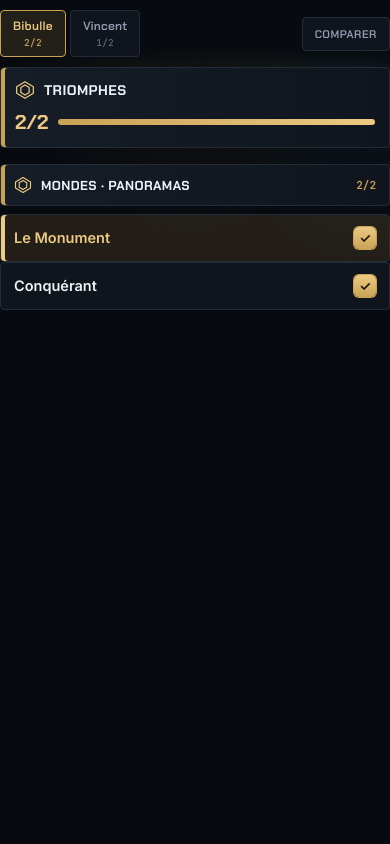
Test: MobileView › closes detail sheet on Escape key
The image size is (390, 844).
Click the text "Le Monument".
click(62, 237)  # box [14, 229, 110, 246]
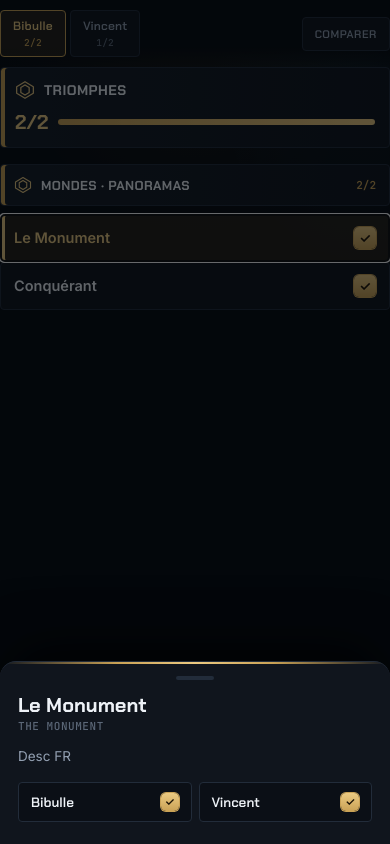
Expected: the text "Desc FR" is shown, [18, 748, 71, 764]
Press Escape
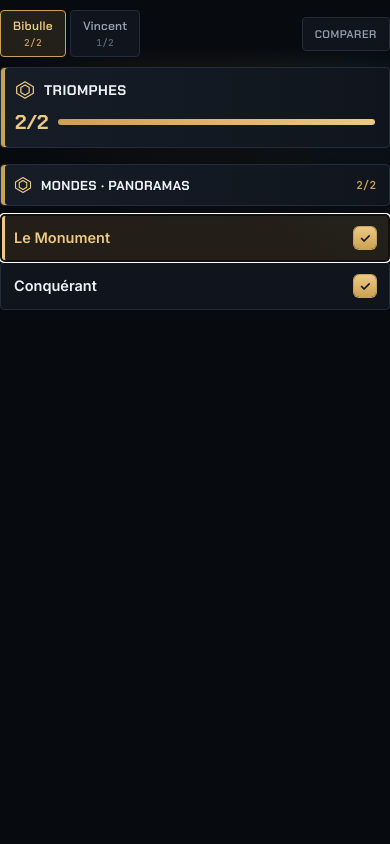
Expected: the text "Desc FR" is gone
